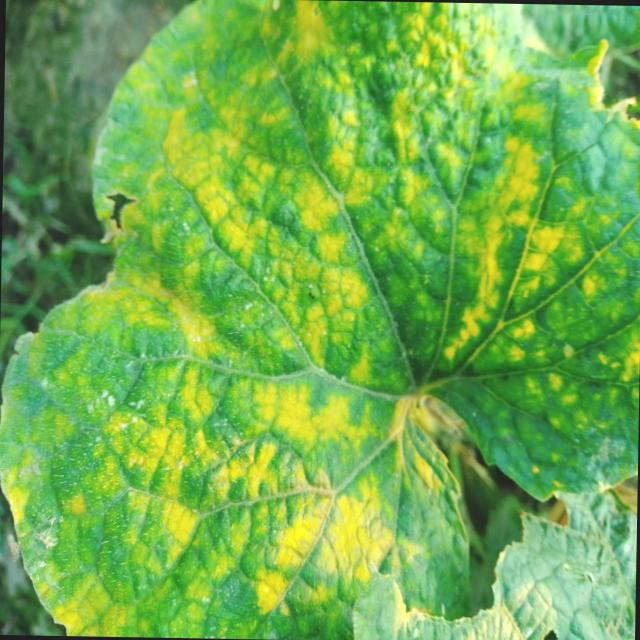cucumber_downy: (51, 35, 567, 586)
